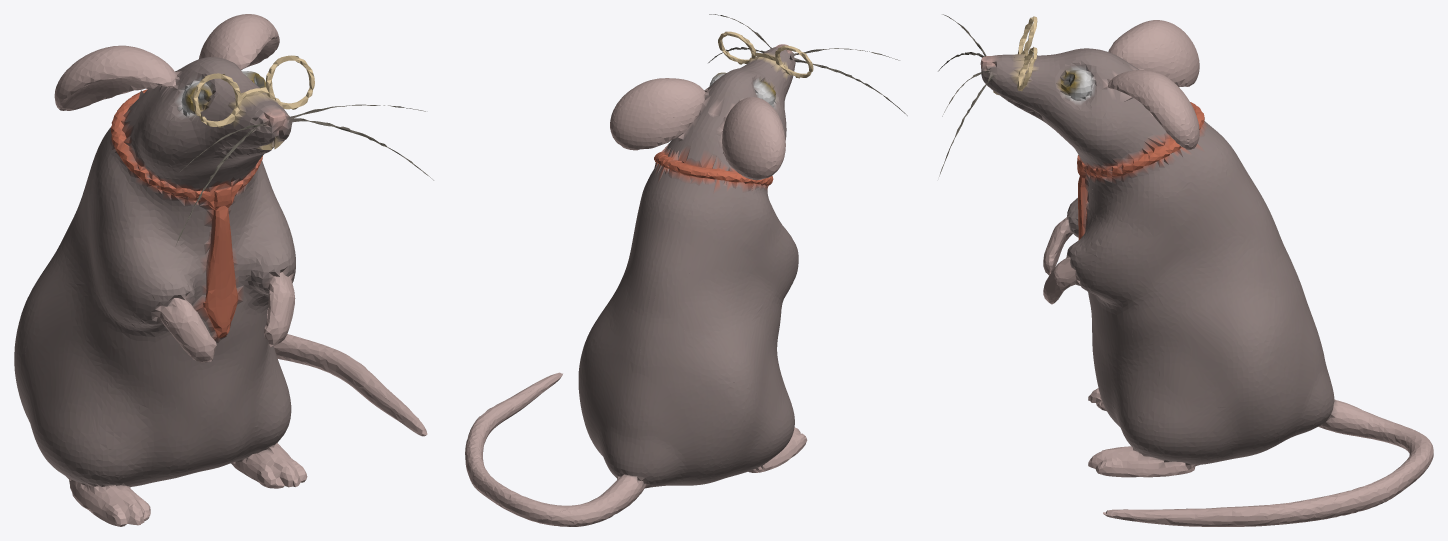
Rendered from officerat.glb.
3 renders of one model, left to right at view 1: azimuth 30°, elevation 25°; view 2: azimuth 150°, elevation 25°; view 3: azimuth 270°, elevation 25°, orthographic. The views are drawn at different scales.
Visible parts, largest first — view 1: rat; view 2: rat; view 3: rat.
Part boxes in pixels (left/top/right/bottom): rat: left=14, top=14, right=433, bottom=526; rat: left=465, top=14, right=907, bottom=526; rat: left=938, top=14, right=1433, bottom=526.
Bounding box in the file's own units: 4.75 × 5.84 × 6.48.
